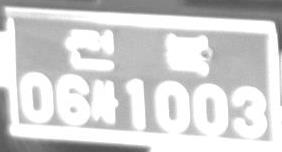0: (191, 83, 229, 136), (154, 80, 191, 133), (19, 71, 55, 124)
1: (121, 76, 153, 131)
3: (230, 85, 268, 139)
6: (55, 72, 91, 127)
사: (90, 78, 119, 126)
전북_D: (63, 28, 213, 76)
